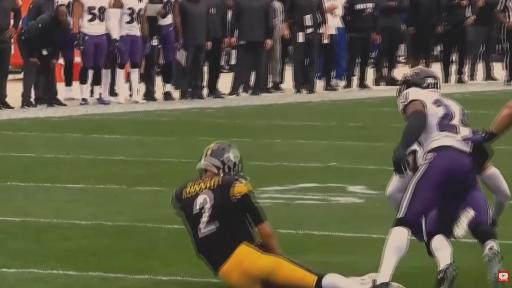Helmet: (197, 141, 242, 176), (397, 67, 440, 97)
Jersey: (172, 176, 264, 271), (398, 88, 472, 152), (78, 0, 110, 35), (120, 0, 147, 35), (408, 142, 423, 172), (56, 0, 73, 26), (158, 0, 174, 25)
Player: (172, 142, 369, 287), (374, 68, 477, 287), (455, 147, 510, 287), (73, 0, 121, 104), (116, 0, 149, 103), (158, 0, 182, 100), (56, 0, 77, 100), (467, 102, 511, 143)
